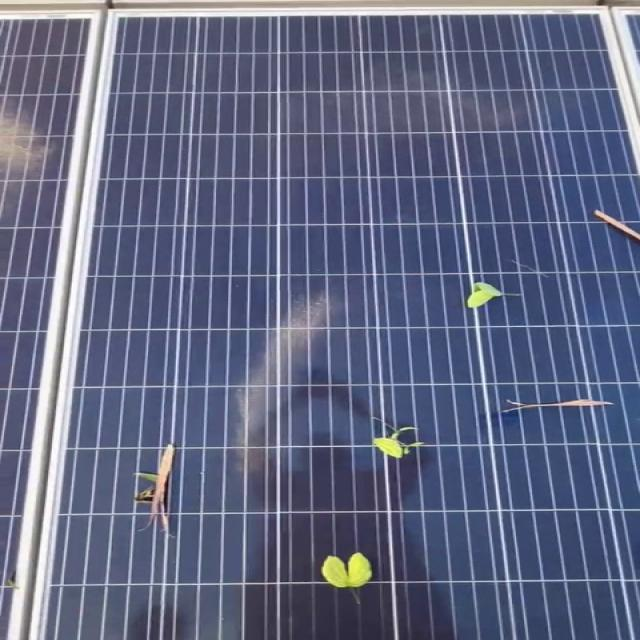dust_partical: (245, 293, 348, 442), (0, 98, 34, 218)
old_leaf: (139, 444, 183, 533), (315, 546, 386, 592), (499, 396, 630, 418), (581, 207, 640, 246), (371, 429, 421, 465), (456, 285, 515, 309)
